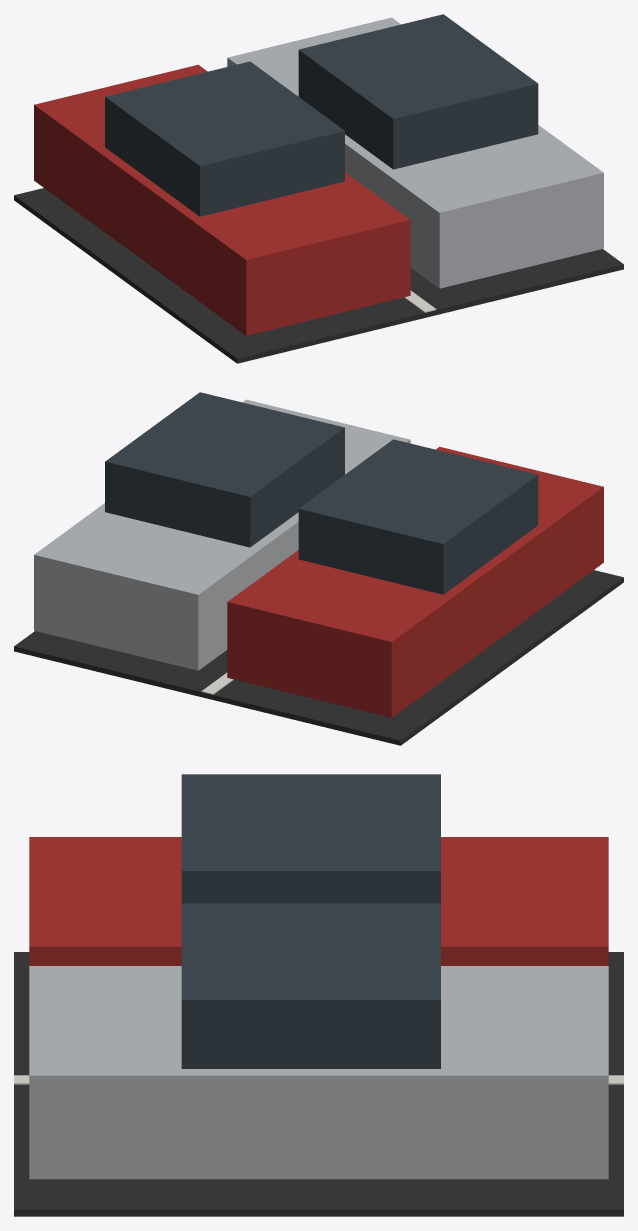
Rendered from car-lot.glb.
The picture shows the model from 3 angles, top to bottom: view 1: azimuth 30°, elevation 25°; view 2: azimuth 150°, elevation 25°; view 3: azimuth 270°, elevation 25°; orthographic projection. The views are drawn at different scales.
Visible parts, largest first — view 1: car-lot; view 2: car-lot; view 3: car-lot.
Boxes of the visible parts, bbox=[...] form: car-lot: bbox=[14, 14, 623, 363]; car-lot: bbox=[14, 392, 623, 745]; car-lot: bbox=[14, 774, 623, 1216].
Bounding box in the file's own units: 4 × 1.45 × 4.
